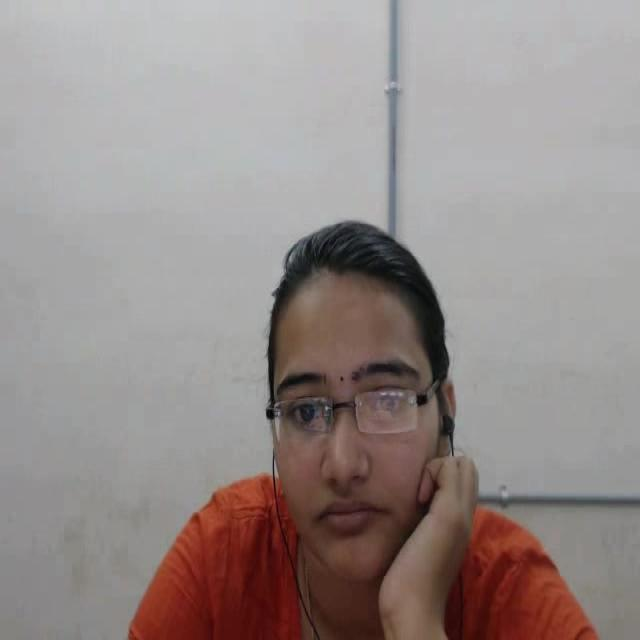Bored: (227, 207, 500, 612)
